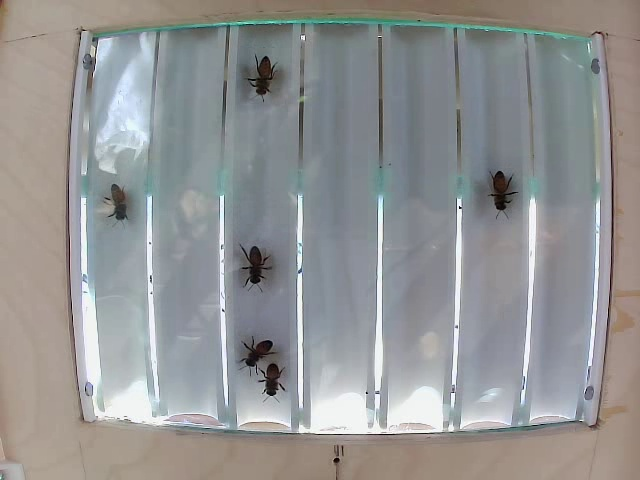bee: (248, 41, 276, 102), (486, 164, 517, 216), (237, 245, 268, 294), (258, 357, 287, 400), (105, 183, 129, 231), (242, 330, 269, 365)
